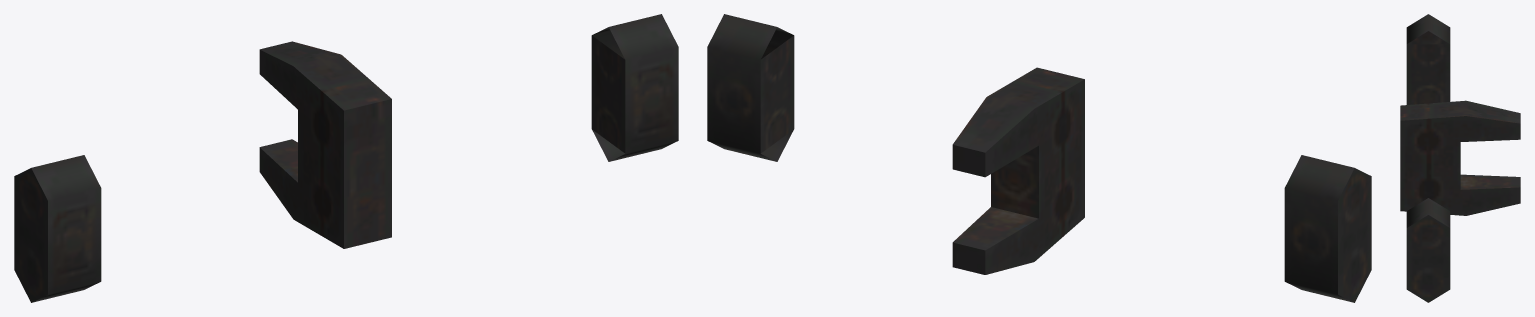
3 views of the same model, side by side, from view 1: azimuth 30°, elevation 25°; view 2: azimuth 150°, elevation 25°; view 3: azimuth 270°, elevation 25° (orthographic). The views are drawn at different scales.
Parts seen in each view (by area): view 1: set_0_group_0; view 2: set_0_group_0; view 3: set_0_group_0.
Part boxes in pixels (x1,y1,x2,y2): set_0_group_0: [14, 14, 678, 302]; set_0_group_0: [707, 14, 1371, 302]; set_0_group_0: [1400, 14, 1520, 302].
Size of the model in its own units: 0.5419 by 0.1259 by 0.137.
1 material, 1 textured.
